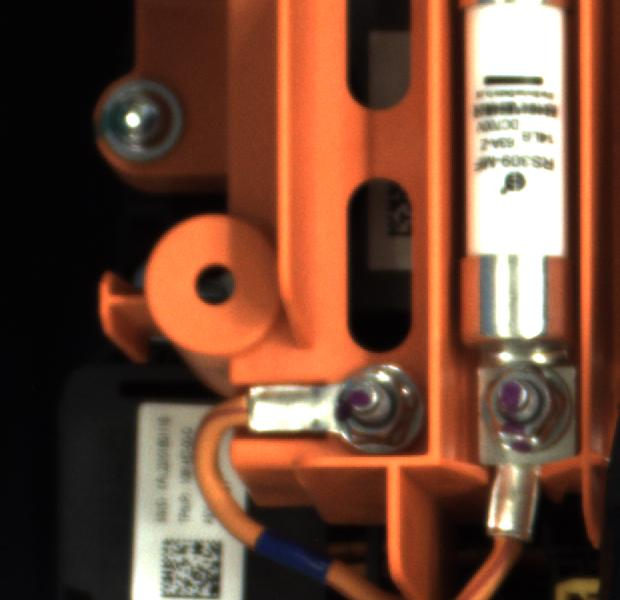screw_m: (85, 72, 199, 171)
screw_s: (470, 355, 577, 456), (328, 360, 413, 445)
